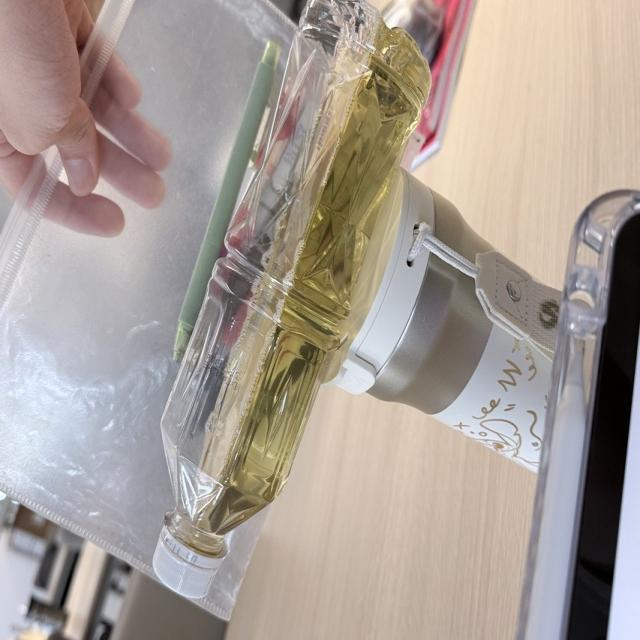medium: (154, 0, 430, 594)
